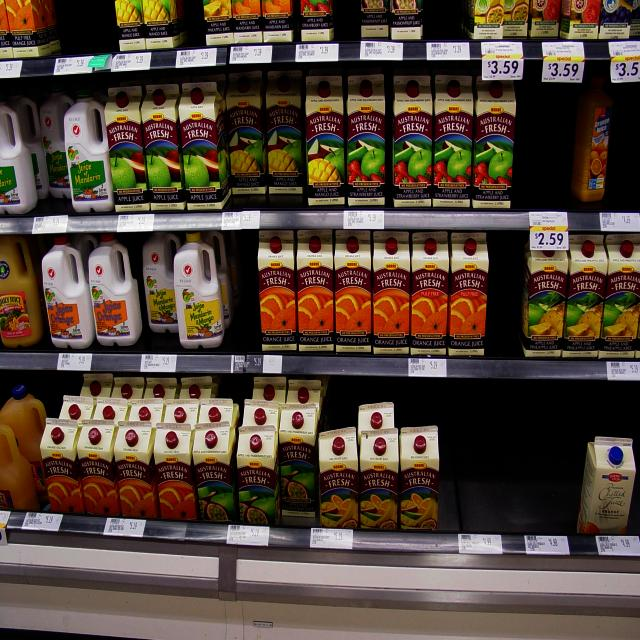empty_space: (448, 392, 578, 523), (526, 104, 570, 208), (224, 243, 260, 331), (492, 245, 518, 347), (622, 107, 640, 209)
